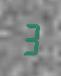three: (19, 19, 39, 56)
